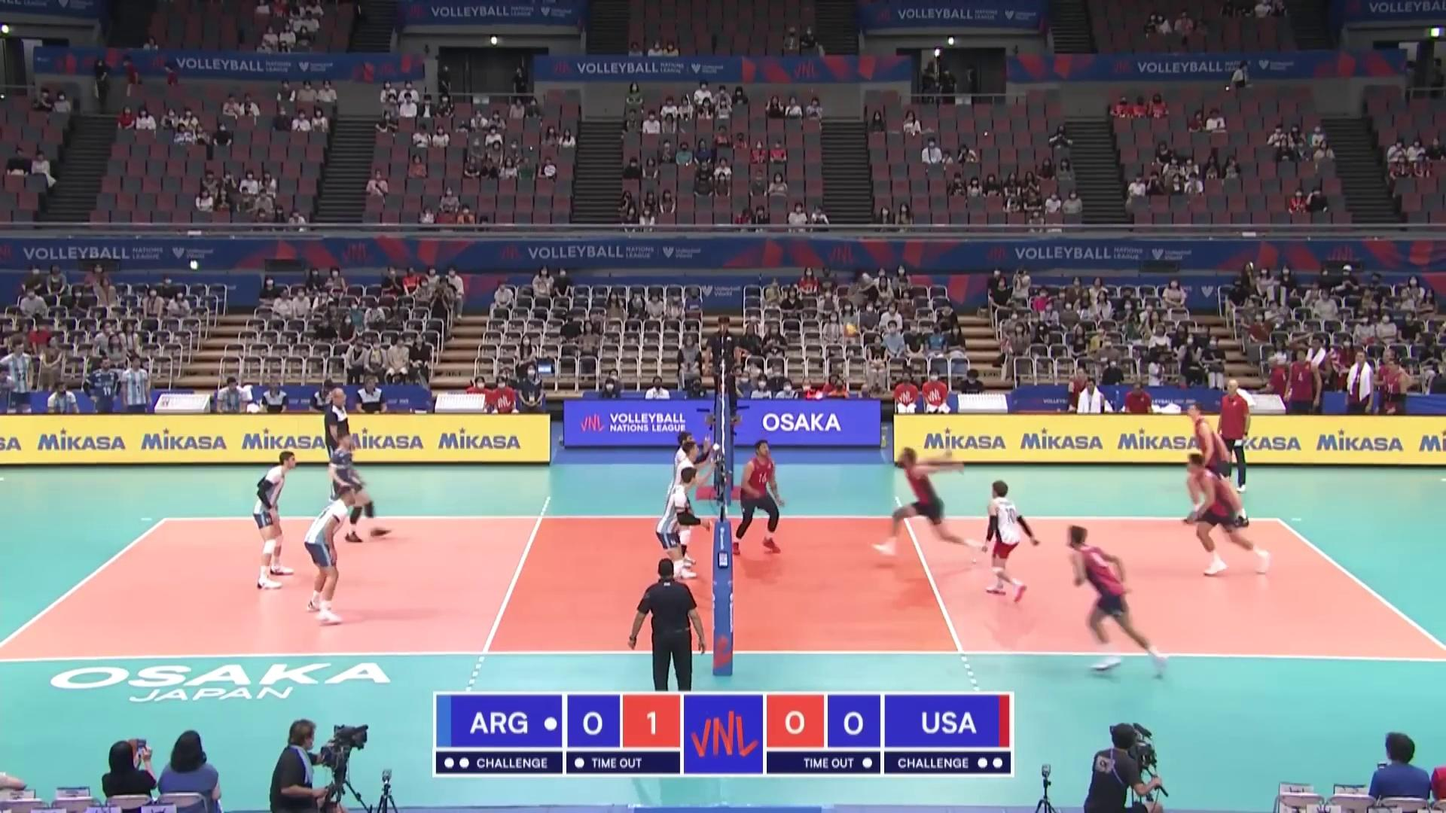player: (1063, 526, 1172, 677), (871, 447, 986, 563), (1186, 453, 1275, 576), (302, 486, 356, 624), (1188, 403, 1247, 527), (328, 432, 394, 541), (983, 482, 1036, 602), (254, 450, 298, 590), (731, 440, 783, 554), (669, 442, 710, 575), (669, 433, 710, 563), (656, 469, 699, 592)
refree: (628, 559, 704, 691), (703, 316, 743, 419)
